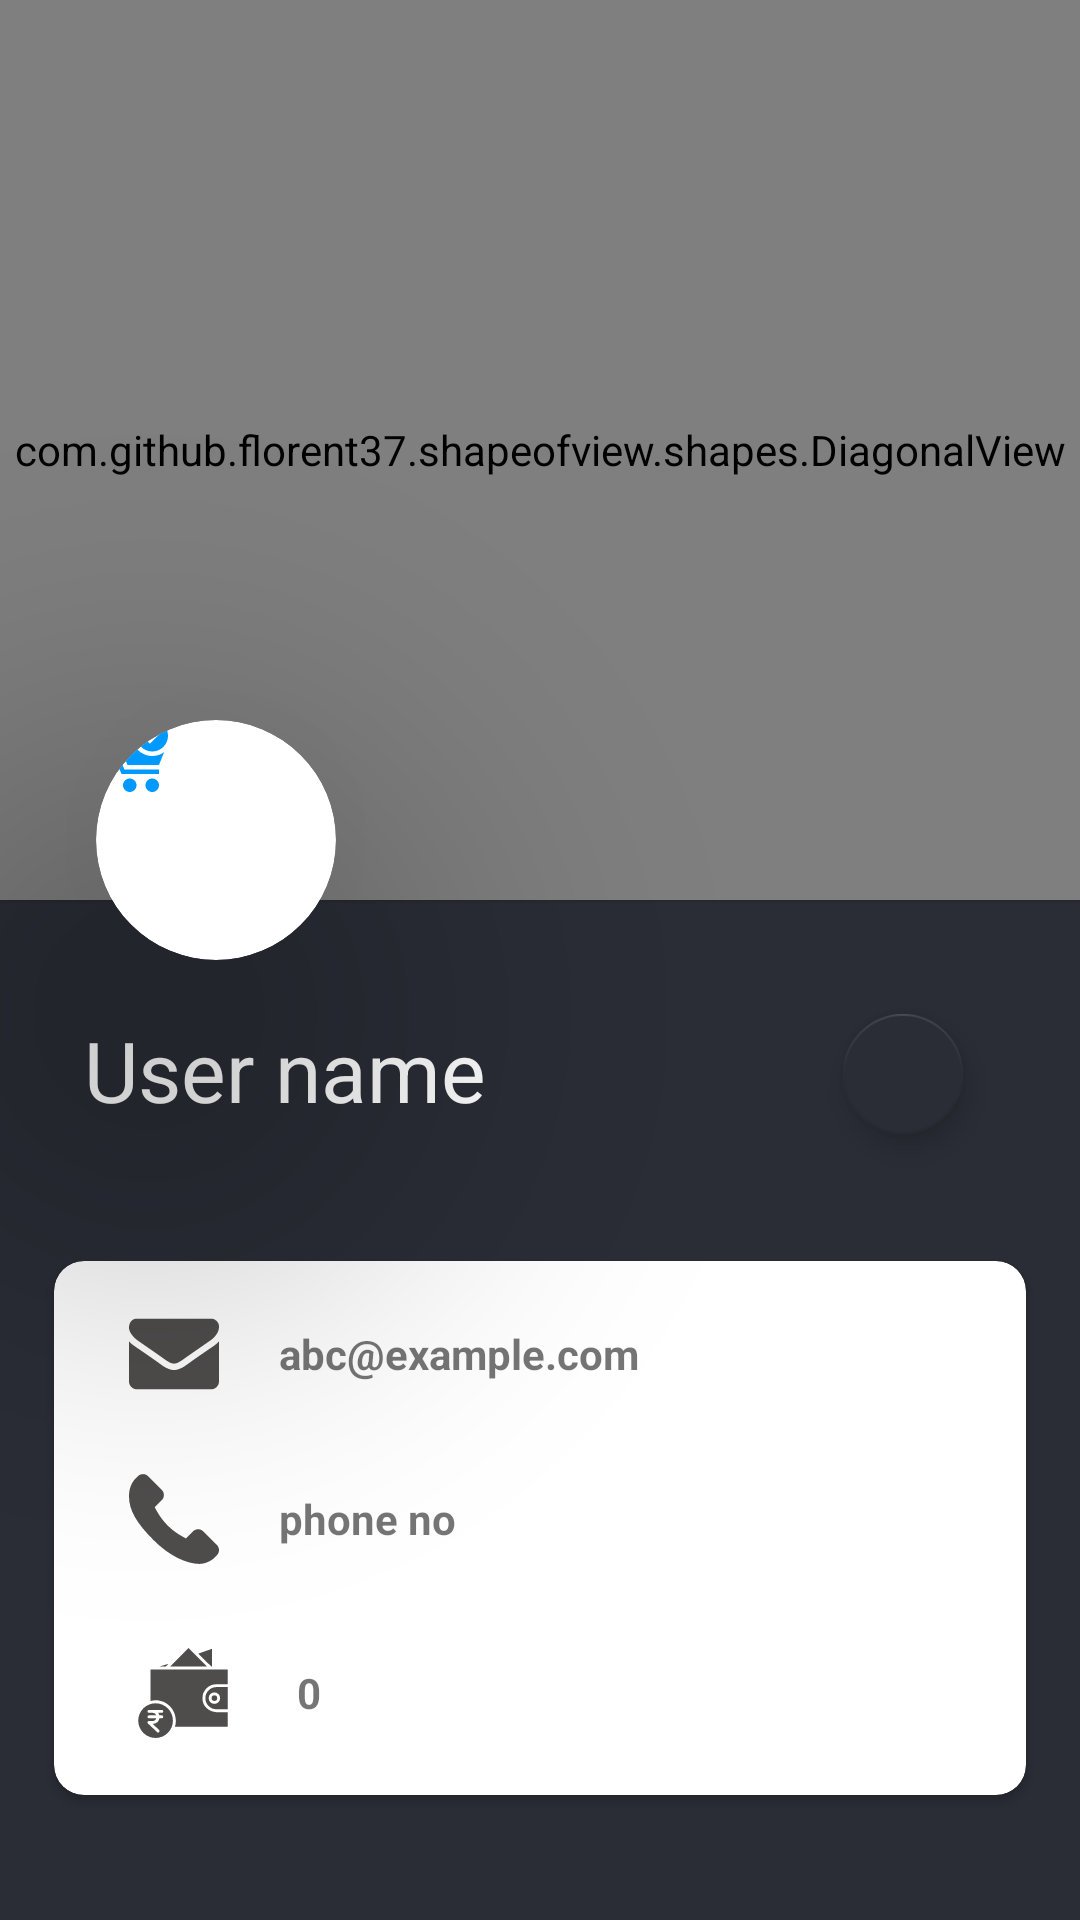

Where to tap for icons on this 1080 × 1920 app screen, as [x,y]:
email: [174,1354]
wallet: [183,1693]
